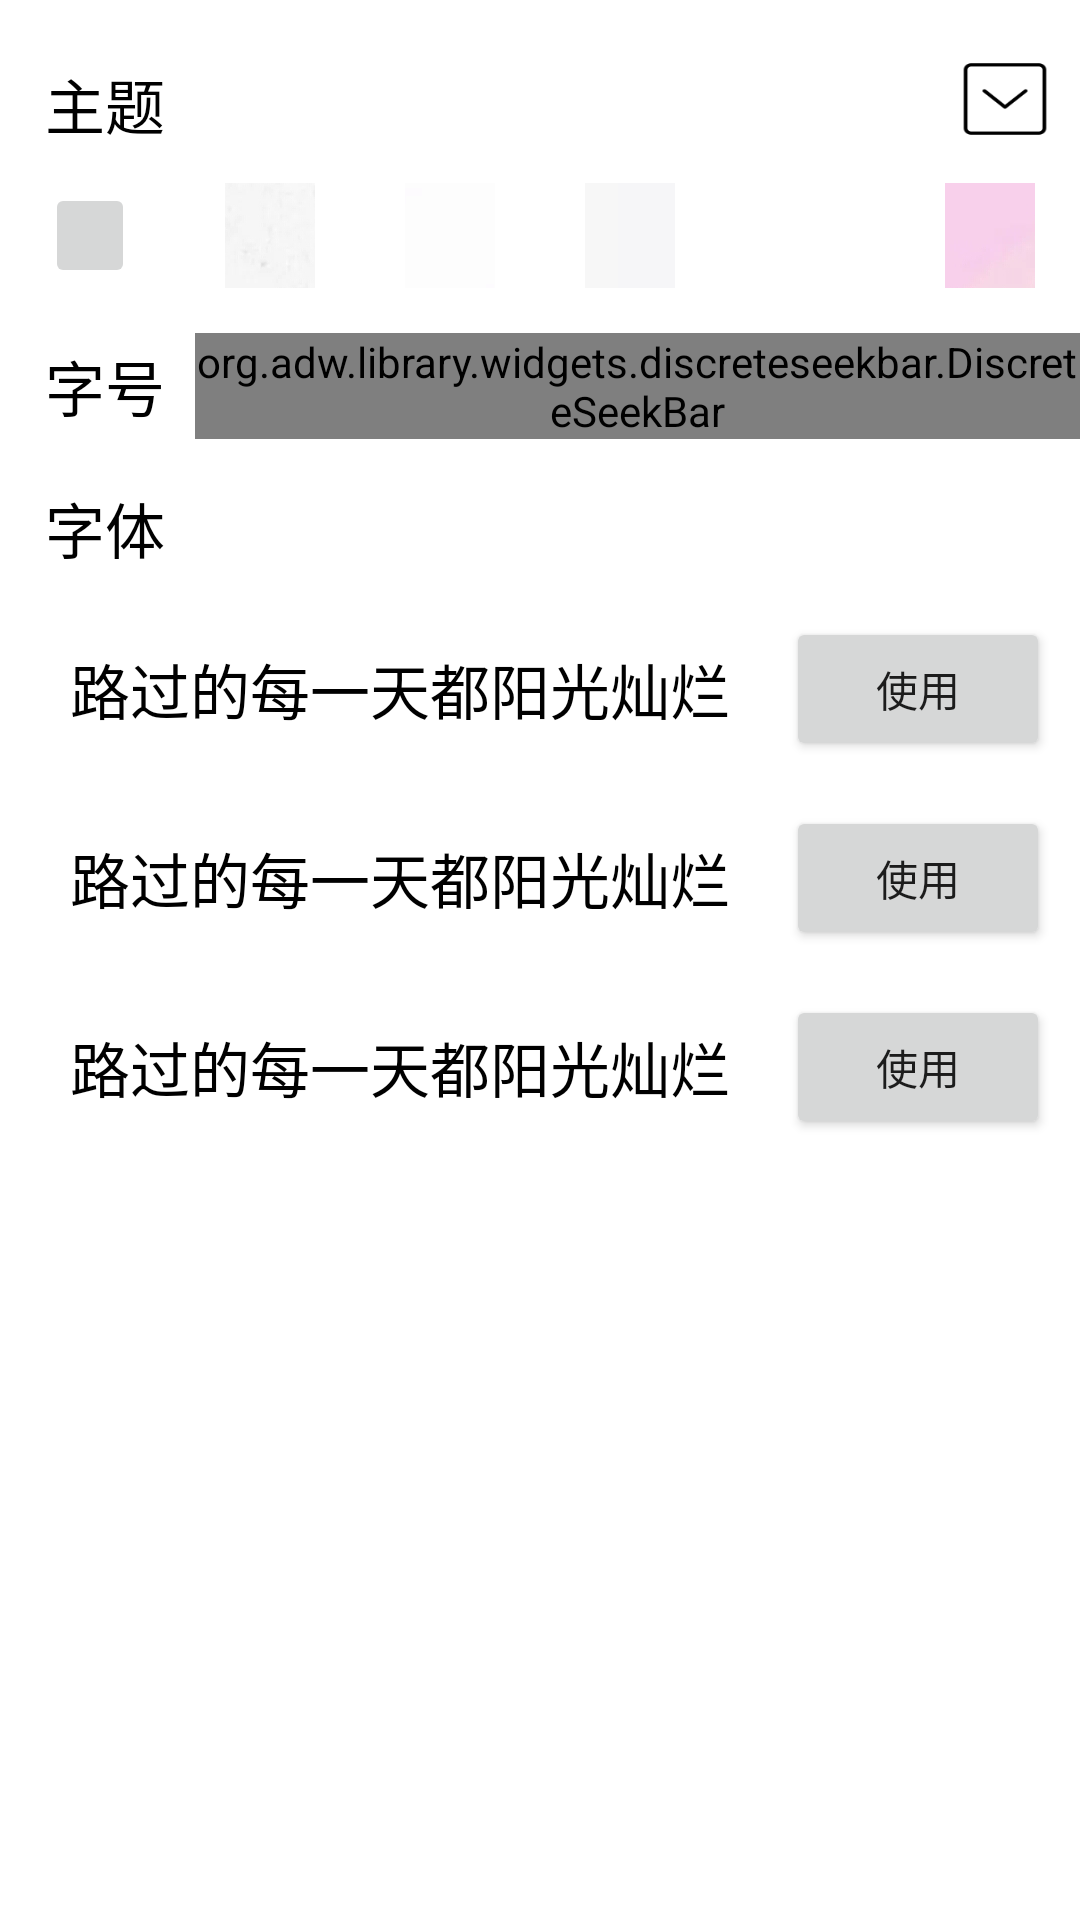

Icon click points for this 1080*1920 phone screenshot, format (x=x, y=y):
drop down: (x=1005, y=99)
